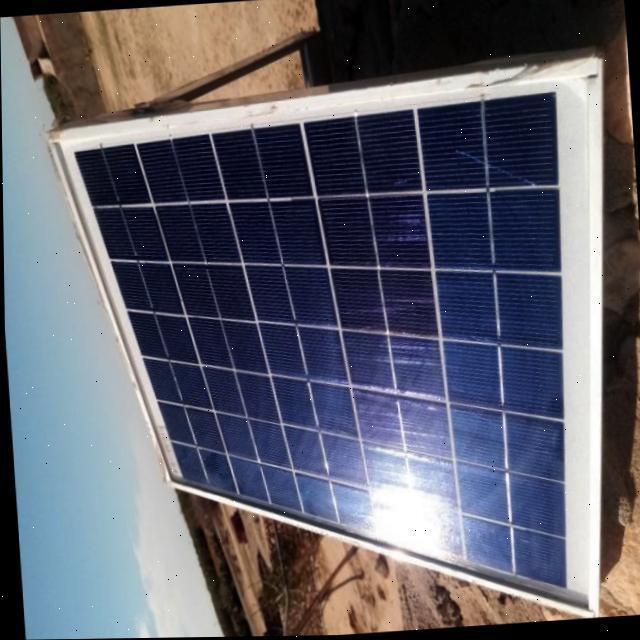Normal Solar Panel: (48, 51, 632, 640)
